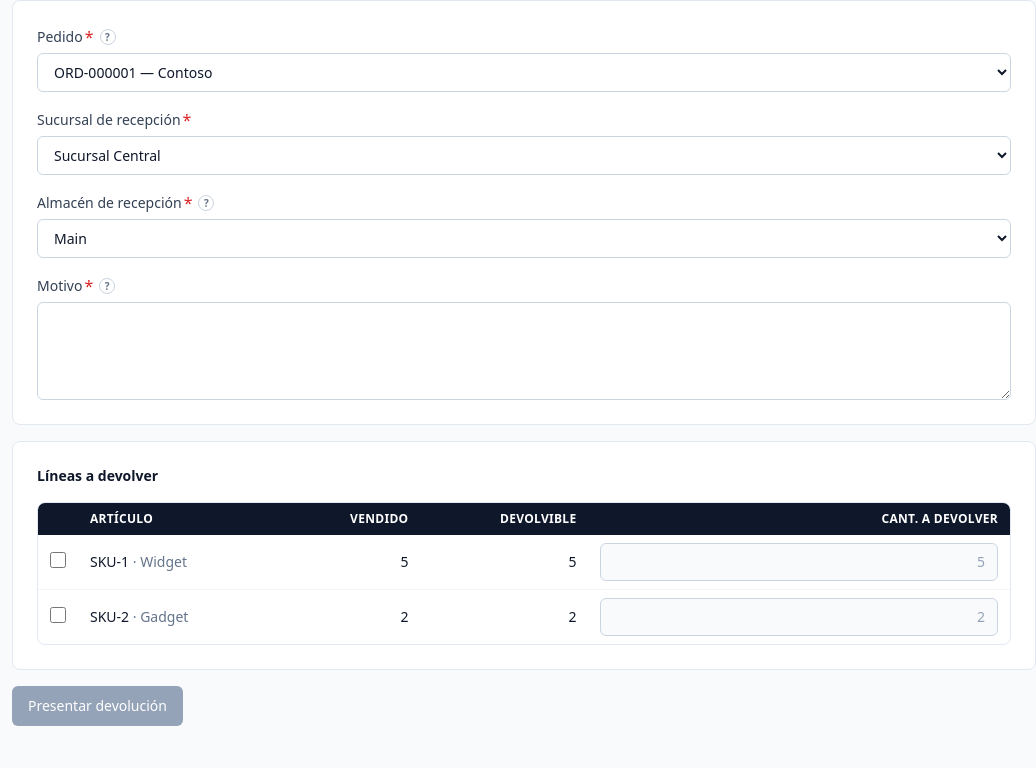
ReturnForm › keeps File return disabled until an order, reason and at least one line are set
The image size is (1036, 768).
Expected: the text "SKU-1" is shown, [90,552,129,571]
Expected: the button "Presentar devolución" is disabled, [12,686,183,726]
Type "damaged in transit" into the text box labelled "Motivo" at (524, 351), box [37,302,1011,400]
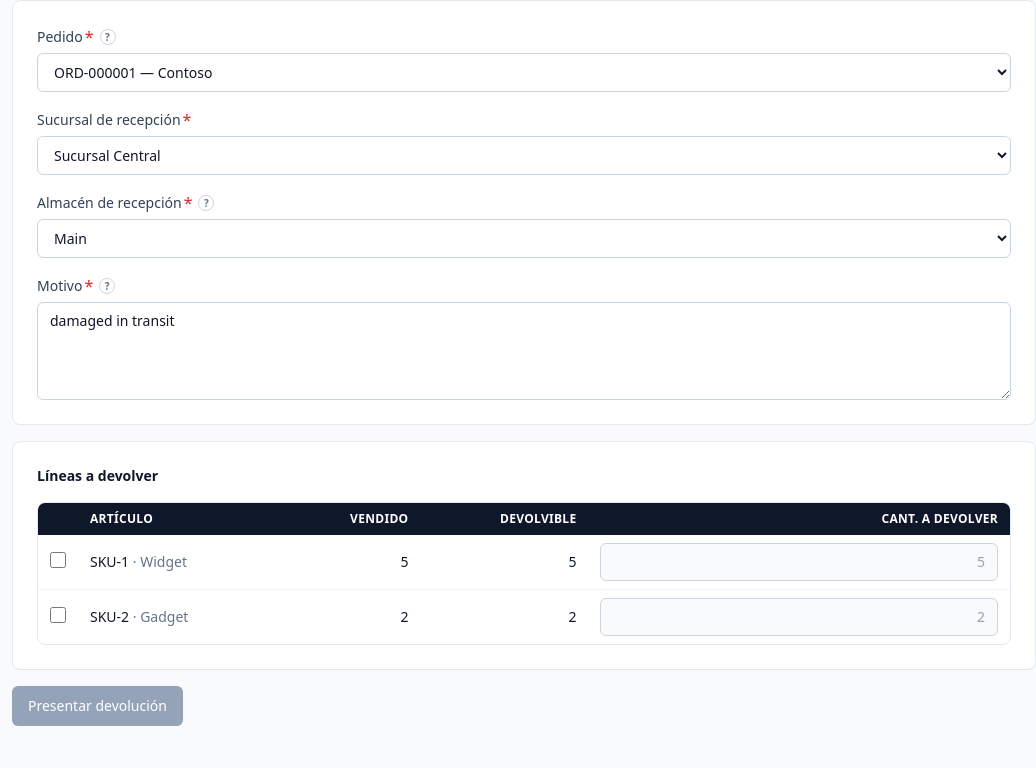
Click the checkbox named "Incluir SKU-1" at (58, 560), box [50,552,66,568]
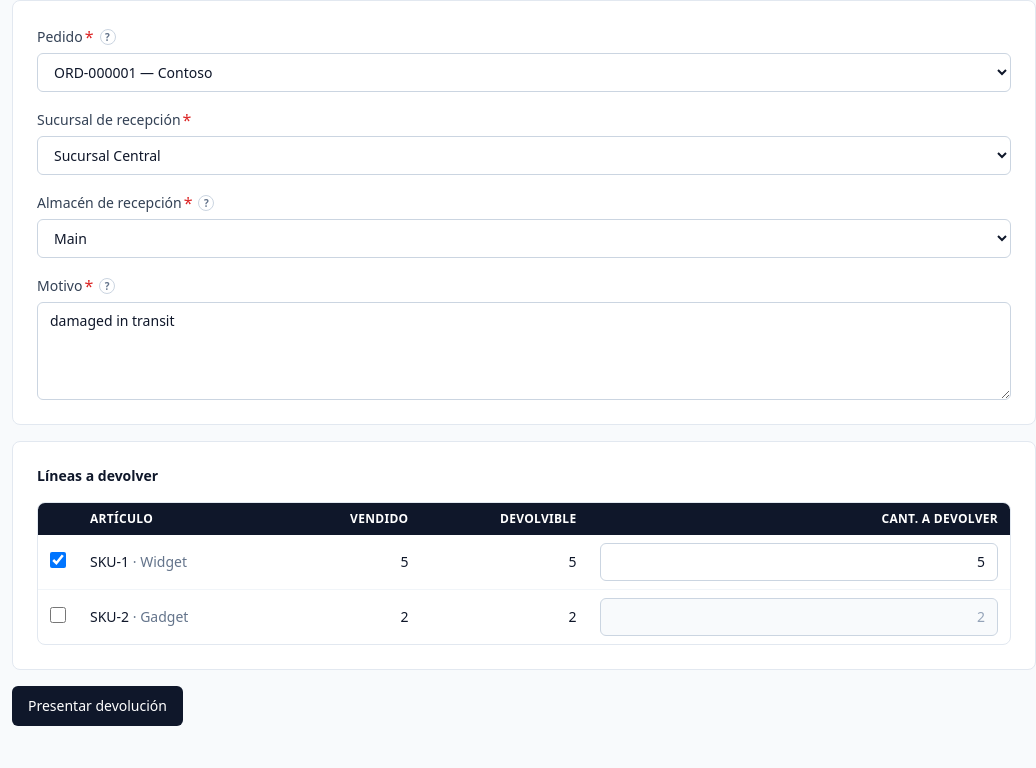
Now the button "Presentar devolución" is enabled, box [12,686,183,726]
